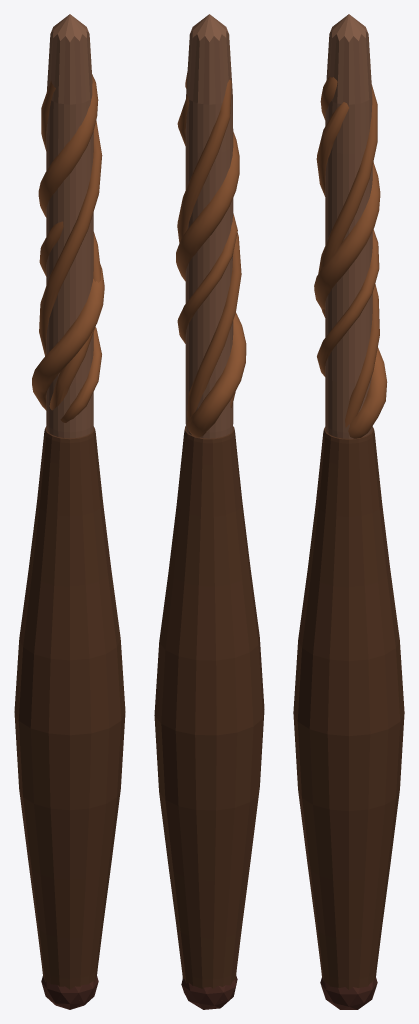
The model's file is Wand 170.glb.
The picture shows the model from 3 angles, left to right: view 1: azimuth 90°, elevation 25°; view 2: azimuth 210°, elevation 25°; view 3: azimuth 270°, elevation 25°; orthographic projection.
Visible parts, largest first — view 1: GeneratedWand; view 2: GeneratedWand; view 3: GeneratedWand.
Part boxes in pixels (x1,y1,x2,y2): GeneratedWand: [14, 14, 125, 1009]; GeneratedWand: [154, 14, 264, 1009]; GeneratedWand: [293, 14, 404, 1009].
Bounding box in the file's own units: 0.0499 × 0.4921 × 0.0499.
